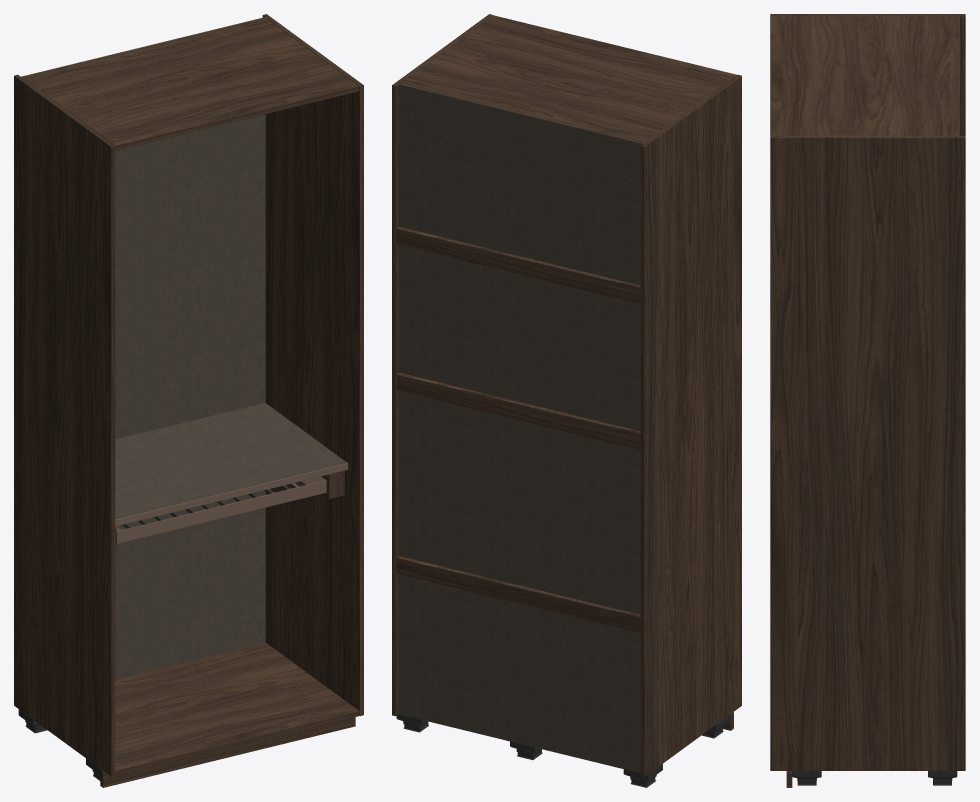
3 views of the same model, side by side, from view 1: azimuth 30°, elevation 25°; view 2: azimuth 150°, elevation 25°; view 3: azimuth 270°, elevation 25° (orthographic).
Parts seen in each view (by area): view 1: HK1001082, BONG_01; view 2: HK1001082; view 3: HK1001082.
Part boxes in pixels (x1,y1,x2,y2): HK1001082: (14,14,363,787); BONG_01: (115,463,348,543); HK1001082: (392,14,741,787); HK1001082: (770,14,965,787).
Bounding box in the file's own units: 0.9 × 2.2 × 0.6.
Materials: 8 (7 with a texture image).
